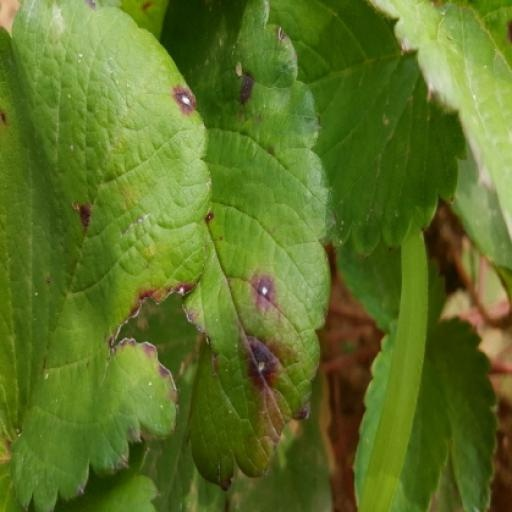Leaf Spot: (299, 0, 511, 511), (176, 0, 353, 492)
